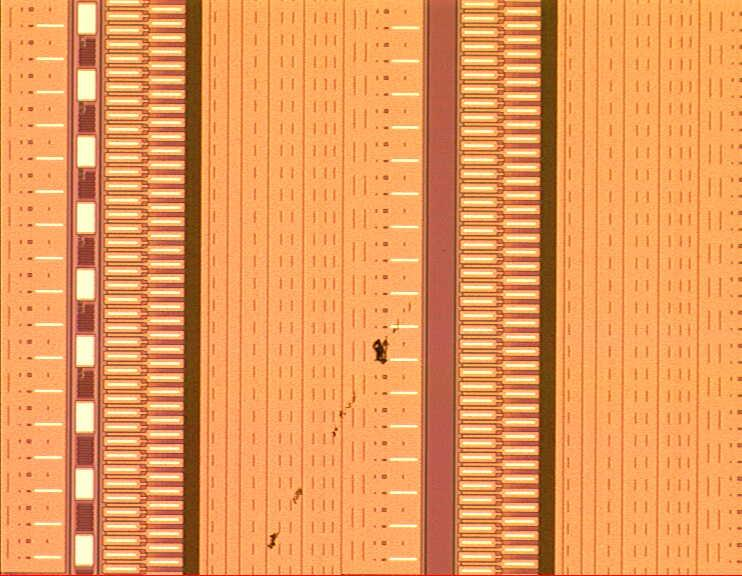SCRATCH: (248, 231, 472, 576)
